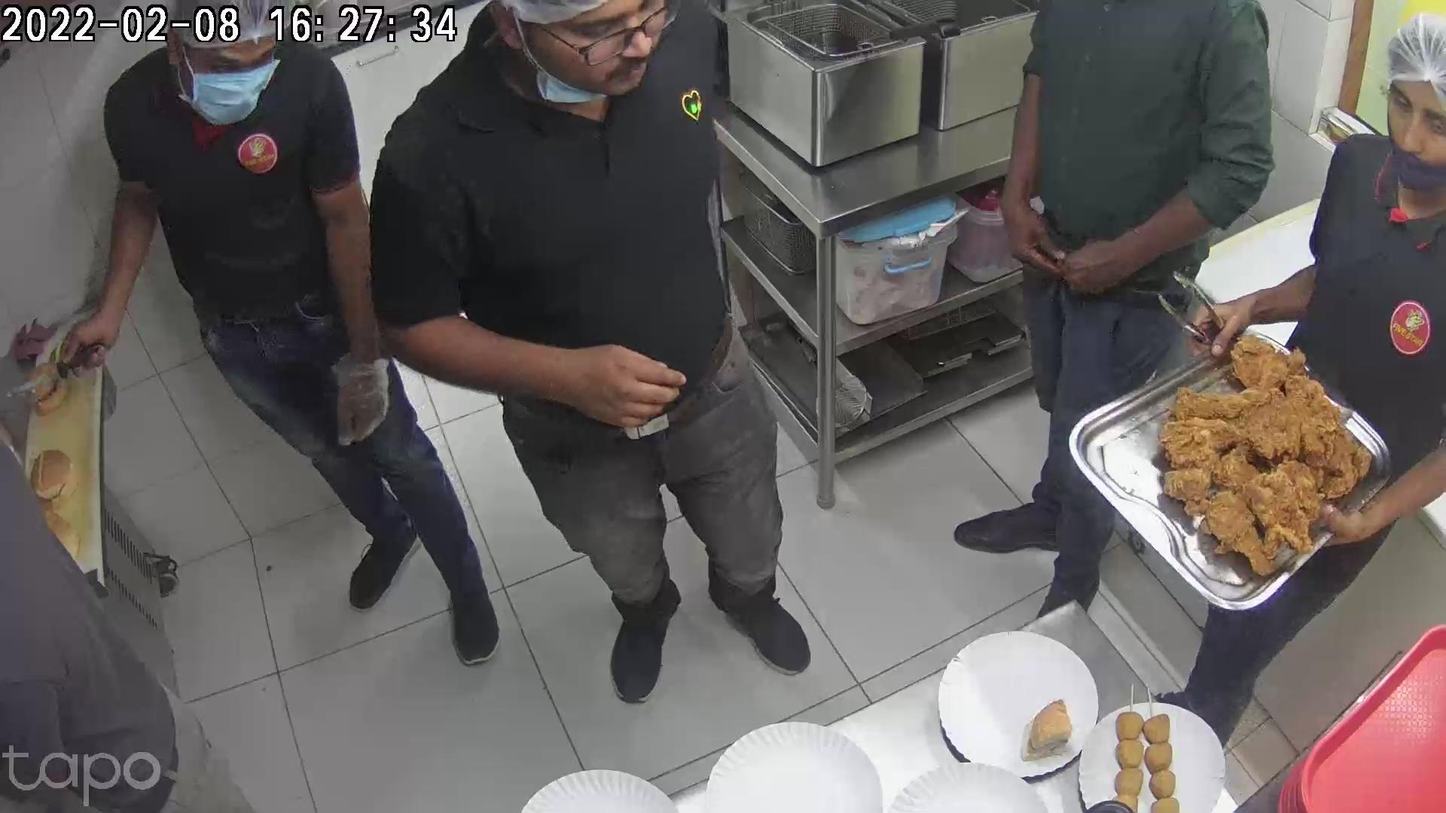no_gloves: (530, 344, 680, 424)
